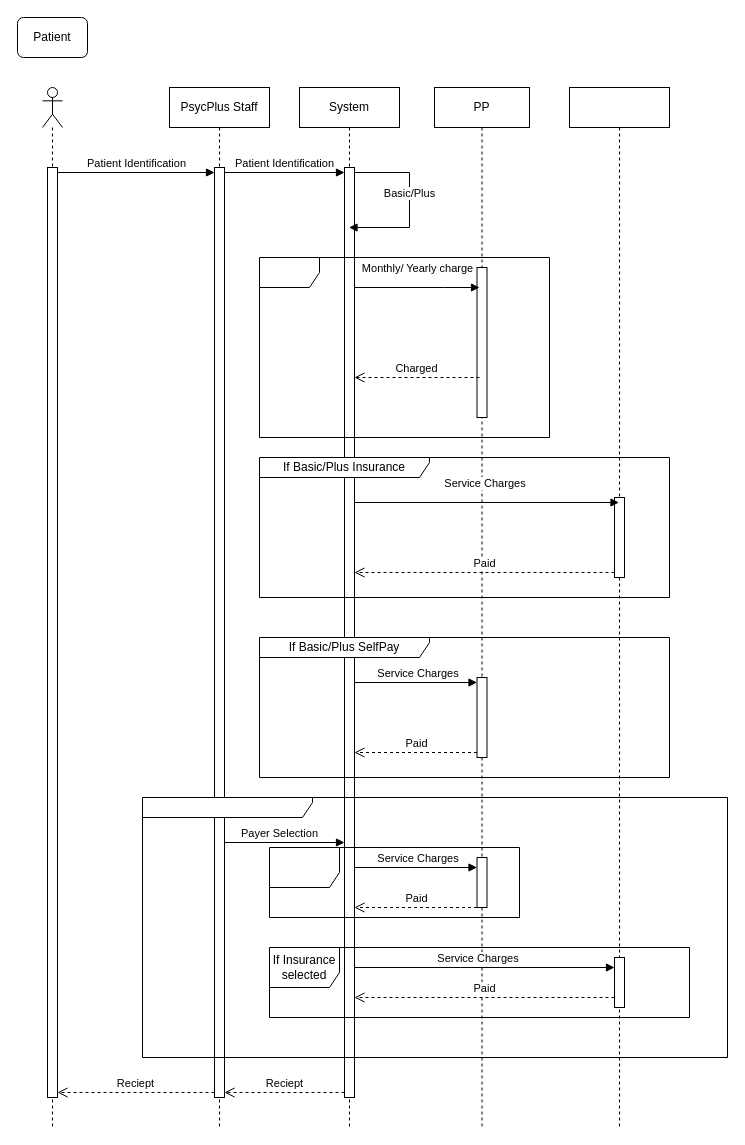
This 745x1145 diagram has some shape labels left out. The centre of each missing label's shape, as x and y in pixels:
If Basic/Plus Custom: (435,927)
If Plus: (404,347)
If PP Selected: (394,882)
Insurance/Patient: (619,607)
